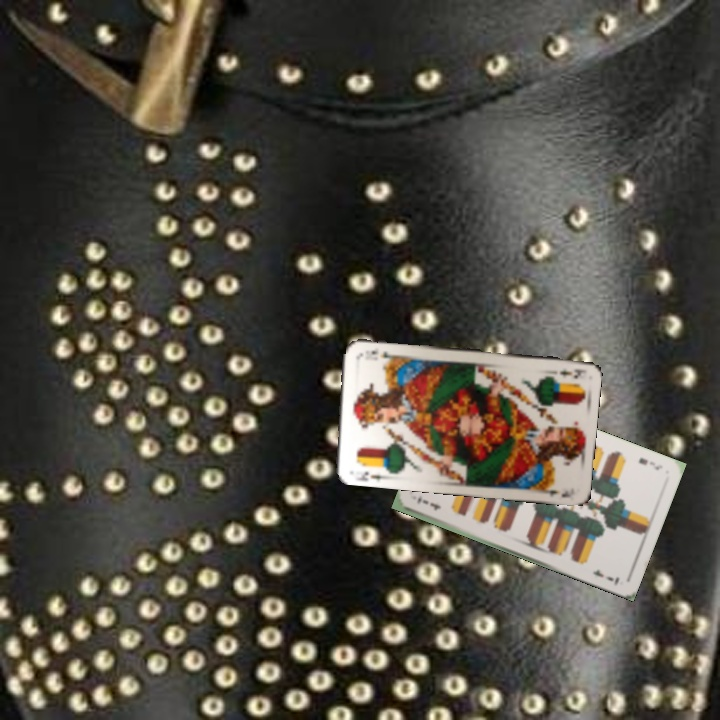E7: (634, 453, 665, 473), (413, 493, 443, 513)
EK: (352, 467, 386, 483), (555, 364, 586, 381)
